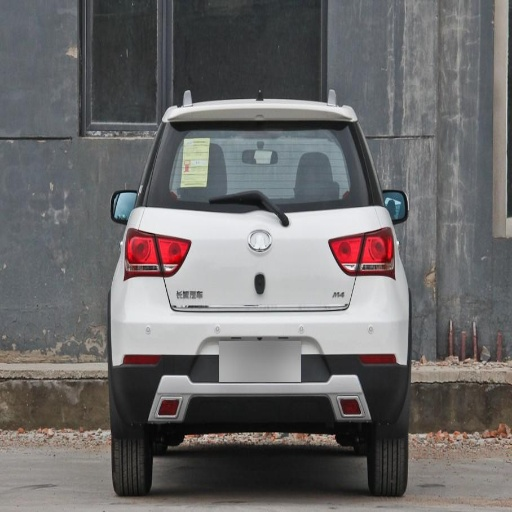back_bumper: (109, 274, 407, 424)
trunk: (131, 208, 389, 309)
